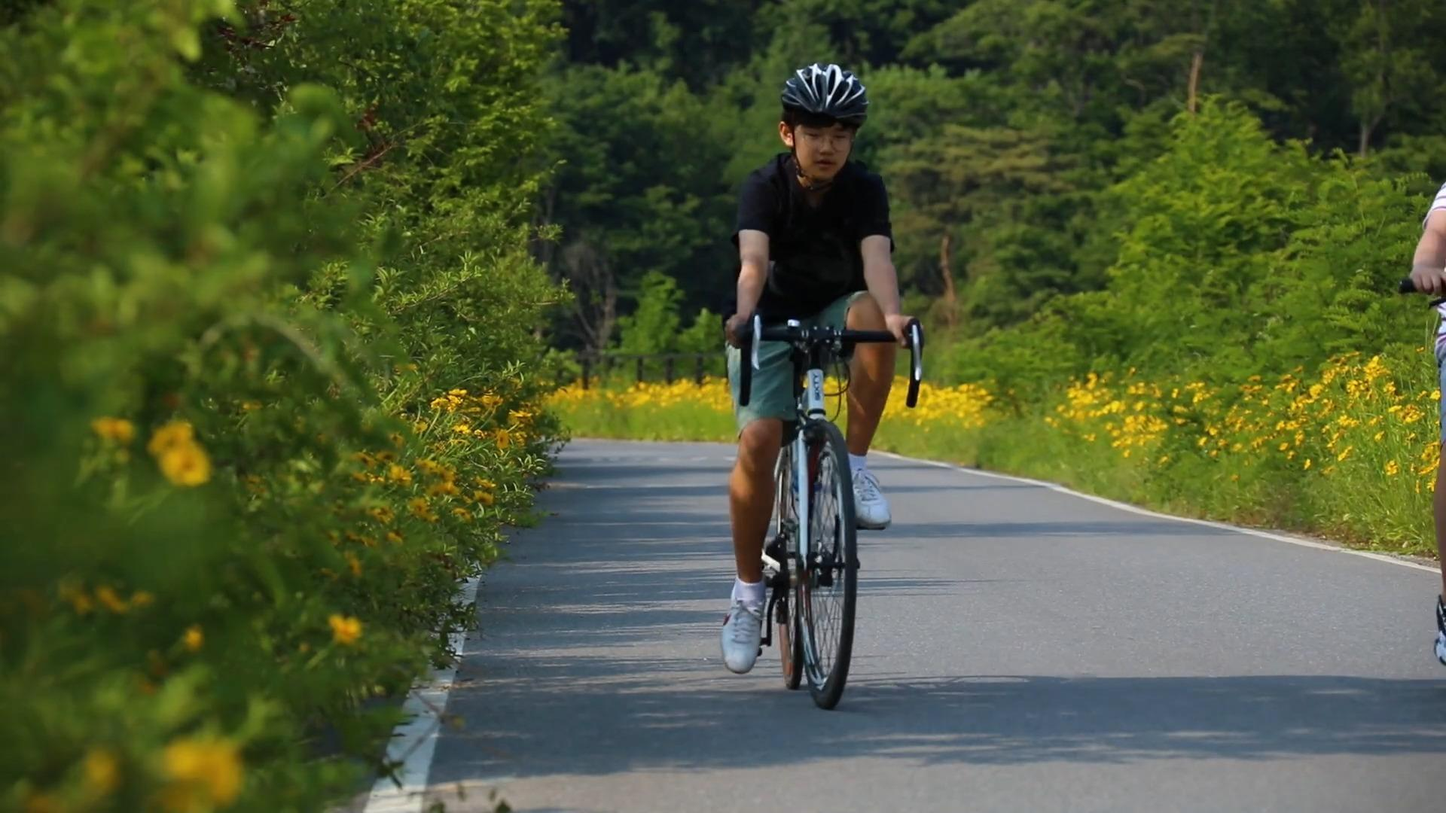bicyclist: (722, 59, 927, 712)
helmet: (778, 59, 869, 192)
